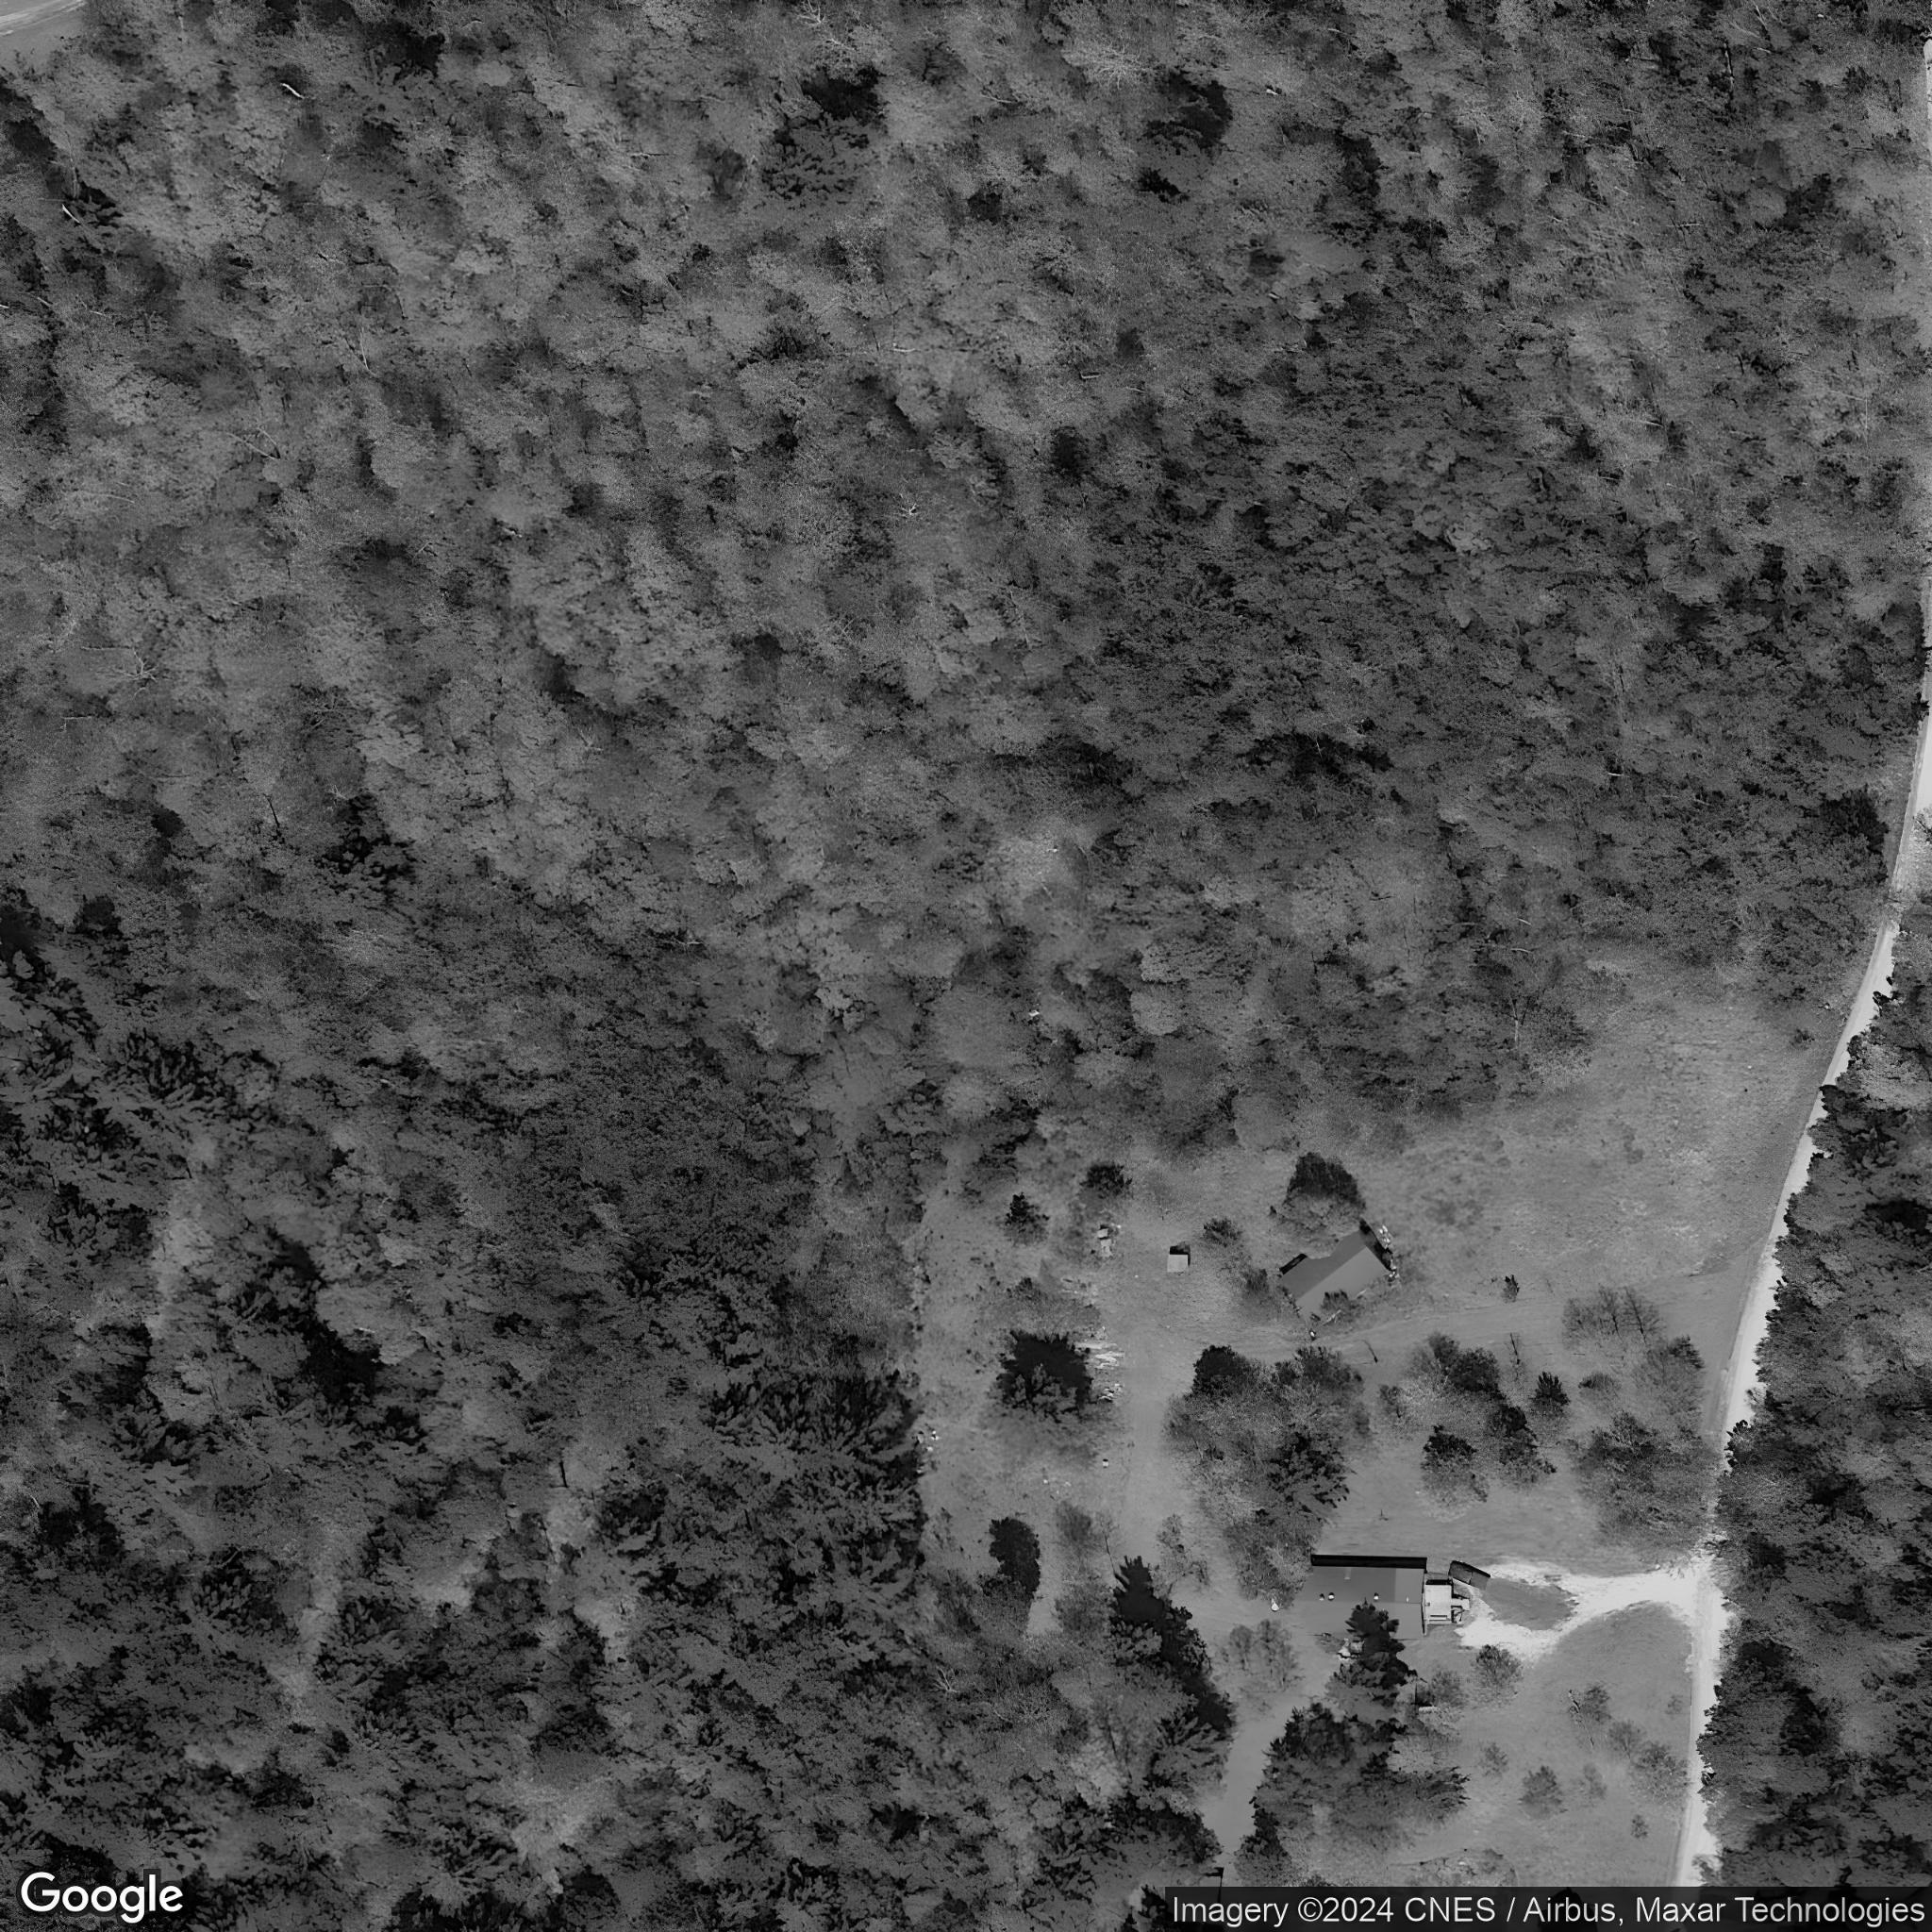Garage: (1277, 1221, 1401, 1329)
House: (1302, 1562, 1428, 1638)
